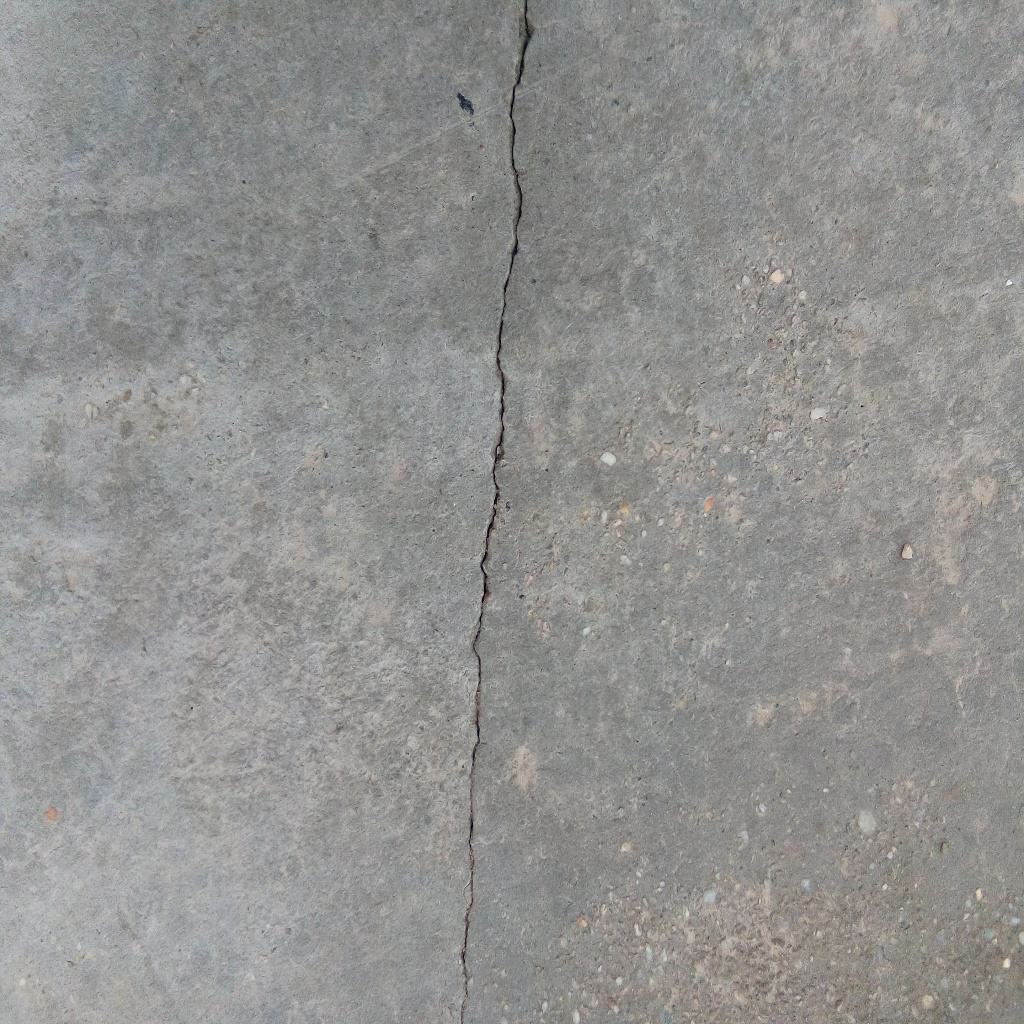Crack: (459, 1, 537, 1024)
